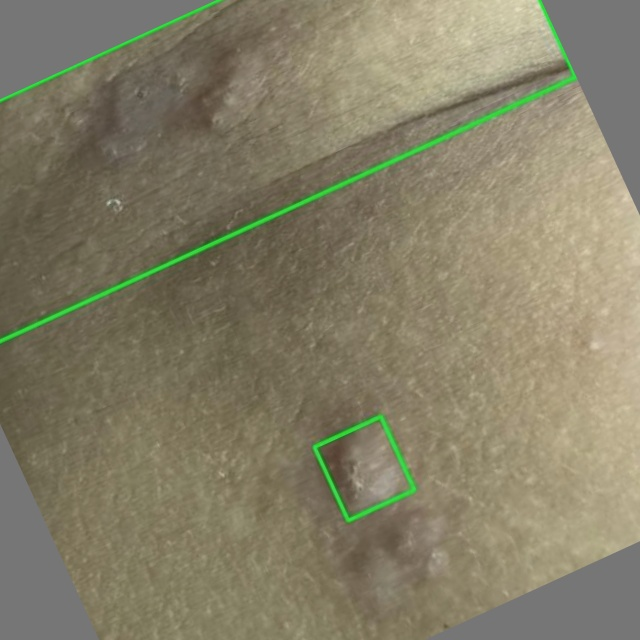Scabies: (0, 0, 575, 341), (314, 416, 414, 520)
